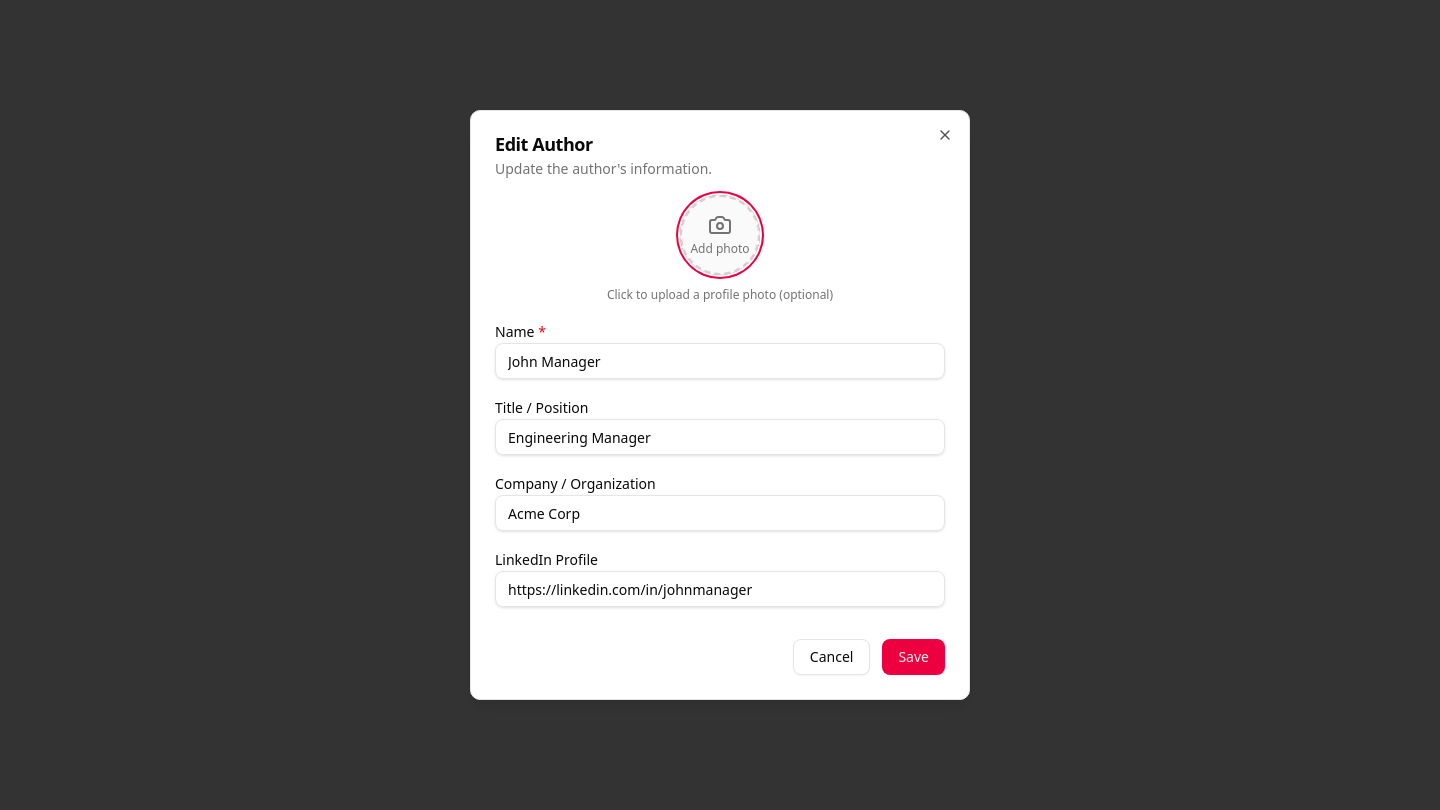
Test: AuthorEditModal › Form Submission › shows error message on mutation failure
This screenshot has width=1440, height=810.
Step 1. Click the button "Save" → x=914, y=657, box [882,639,945,675]
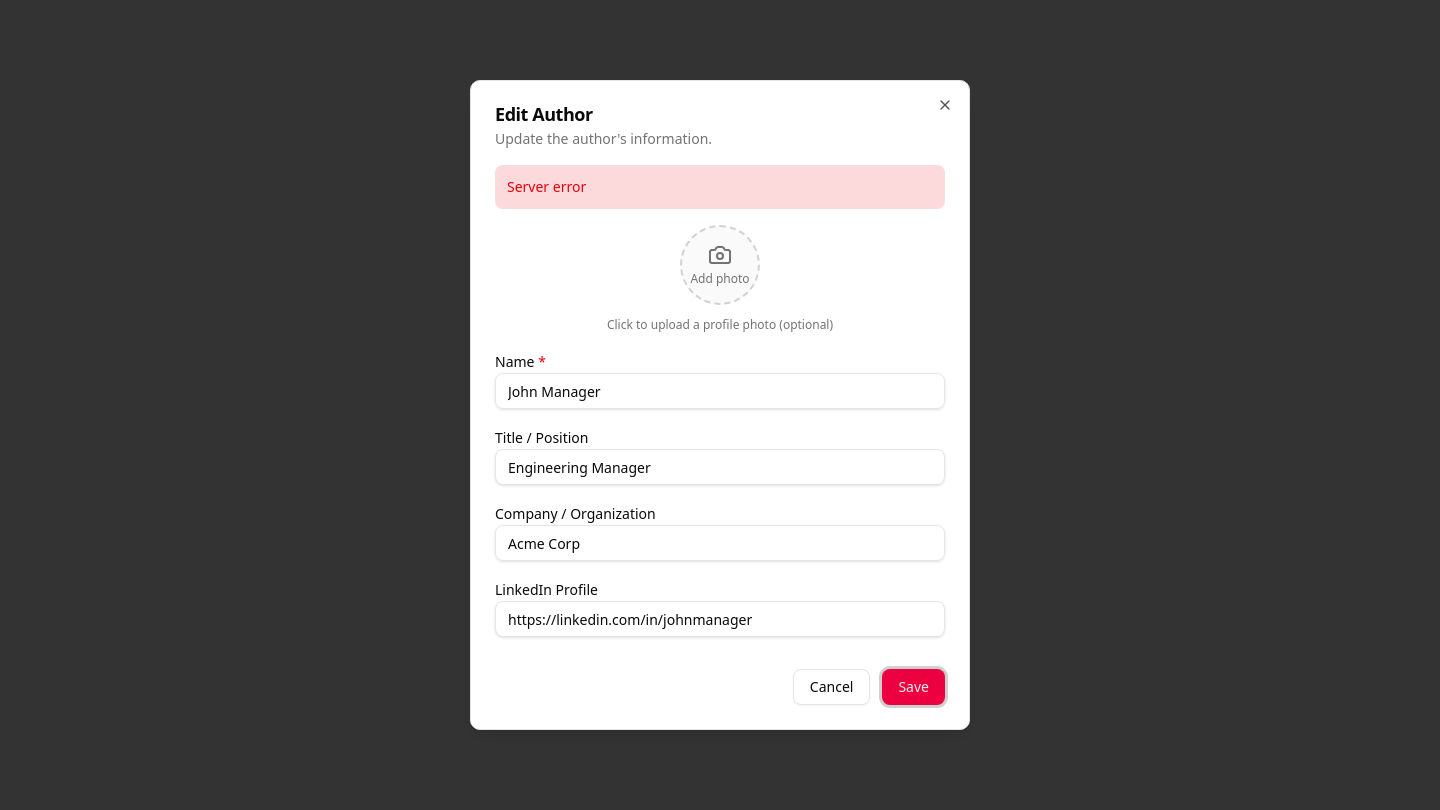
Check: the text "Server error" is shown, box [495,165,945,209]
